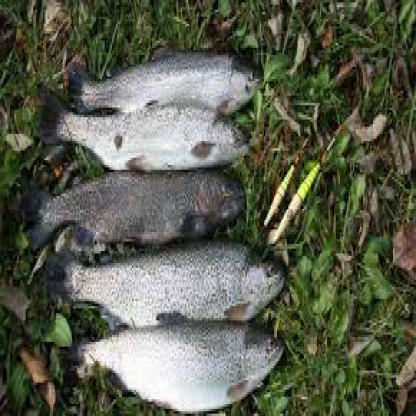fish: (43, 235, 289, 335), (53, 312, 289, 410), (32, 81, 249, 172), (26, 164, 248, 250), (61, 50, 262, 129)
